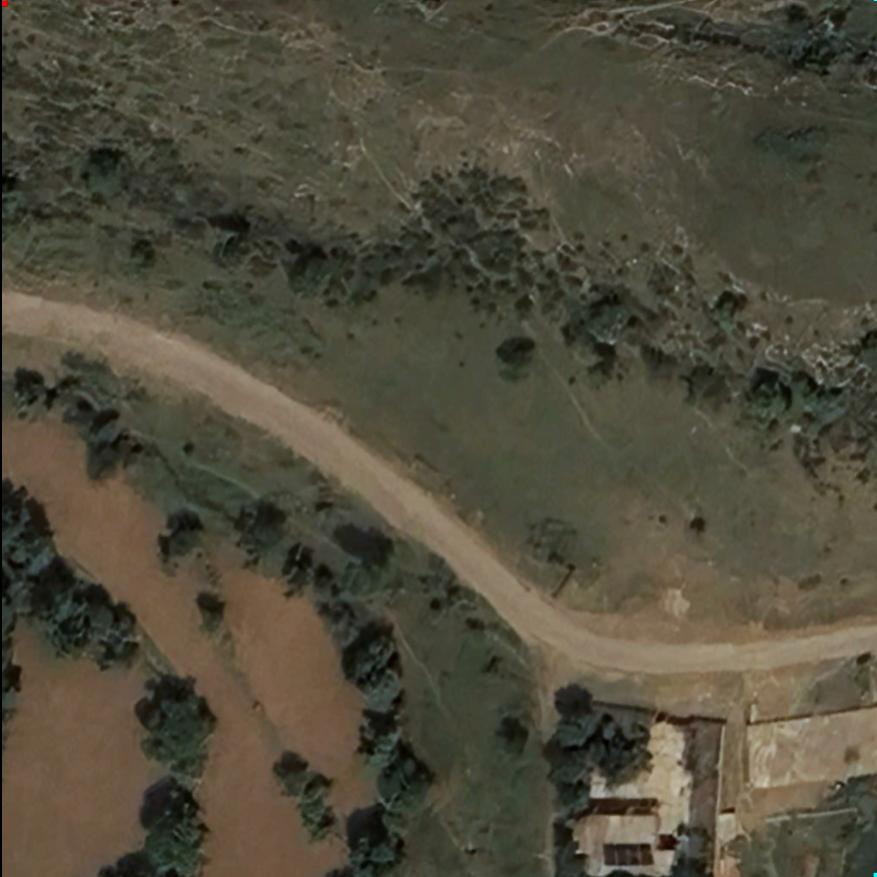Solarpanel: (601, 842, 655, 866)
